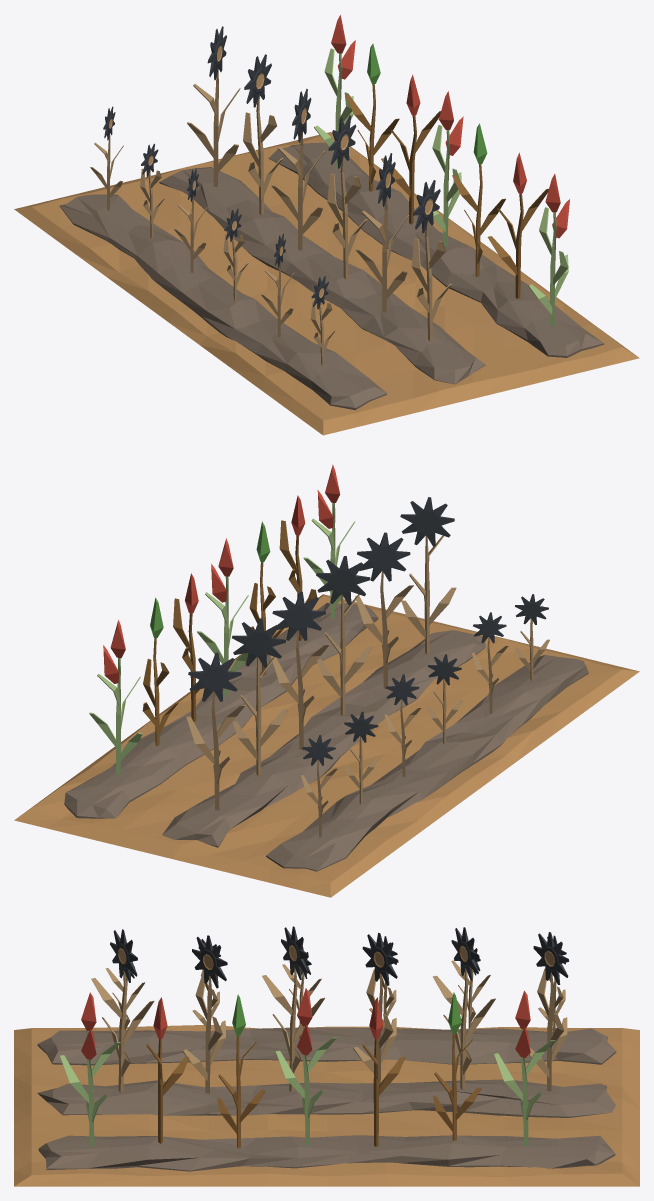
The model's file is field_b_ready.gltf.
3 renders of one model, top to bottom at view 1: azimuth 30°, elevation 25°; view 2: azimuth 150°, elevation 25°; view 3: azimuth 270°, elevation 25°, orthographic.
Parts seen in each view (by area): view 1: field_b_ready001; view 2: field_b_ready001; view 3: field_b_ready001.
Boxes of the visible parts, <box> form: field_b_ready001: <box>14,15,639,435</box>; field_b_ready001: <box>14,464,639,897</box>; field_b_ready001: <box>14,926,639,1186</box>.
Size of the model in its own units: 3.01 by 1.62 by 5.09.
1 material, 1 textured.
